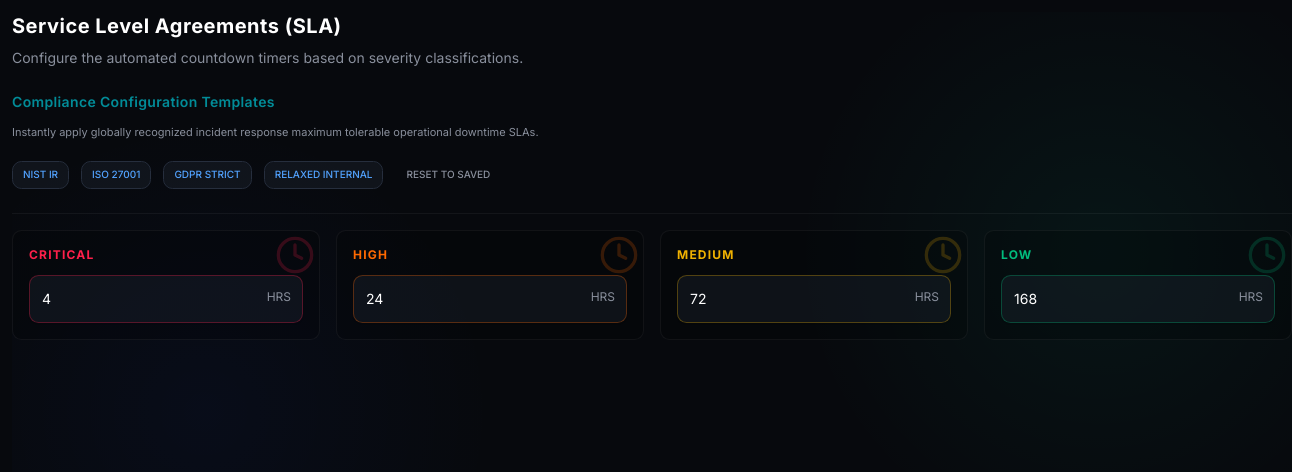
SlaSettingsPanel › resets to saved
Step 1. Replace the text in the number field named "slaCriticalHours" below "Critical" with "999" → (166, 298), box [29, 274, 303, 322]
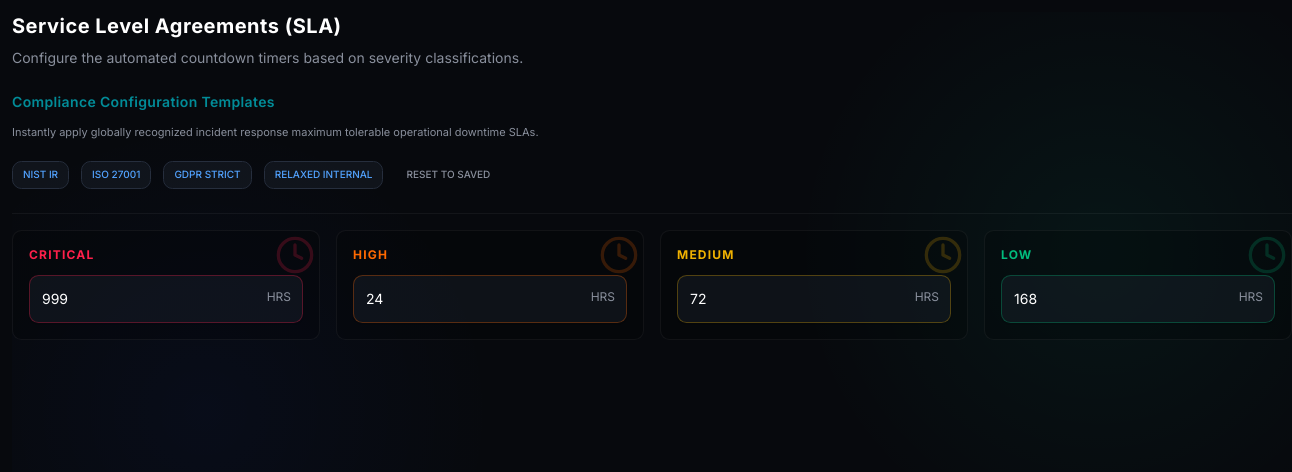
Step 2. Click the button "RESET TO SAVED" → (448, 174), box [396, 160, 501, 188]
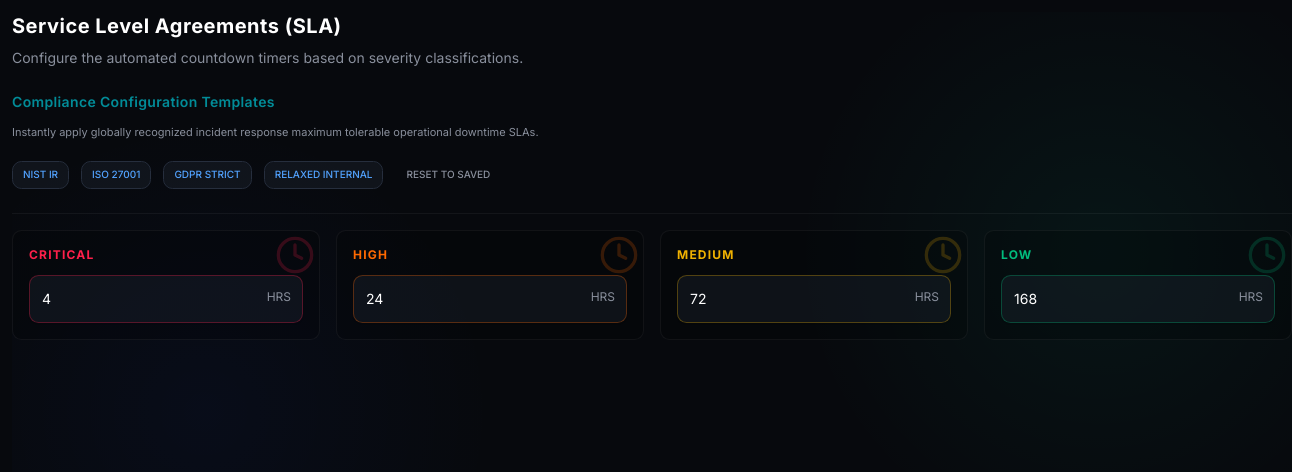
Expected: the number field named "slaCriticalHours" below "Critical" holds "4", [29, 274, 303, 322]
